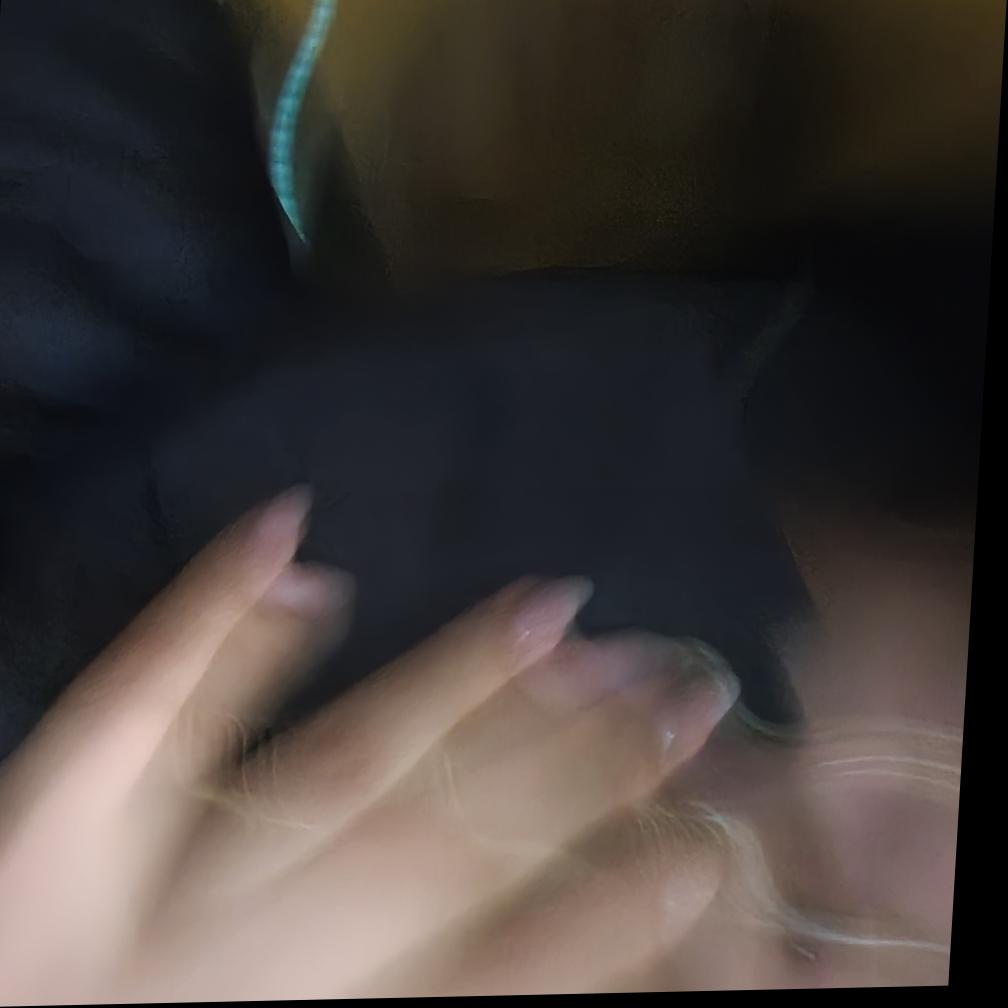nail: (508, 573, 596, 647)
